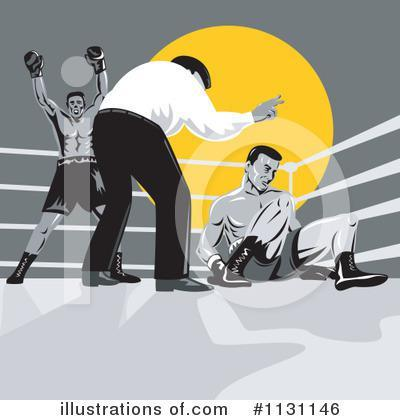person: (81, 52, 285, 295), (8, 44, 146, 289), (193, 143, 388, 291)
